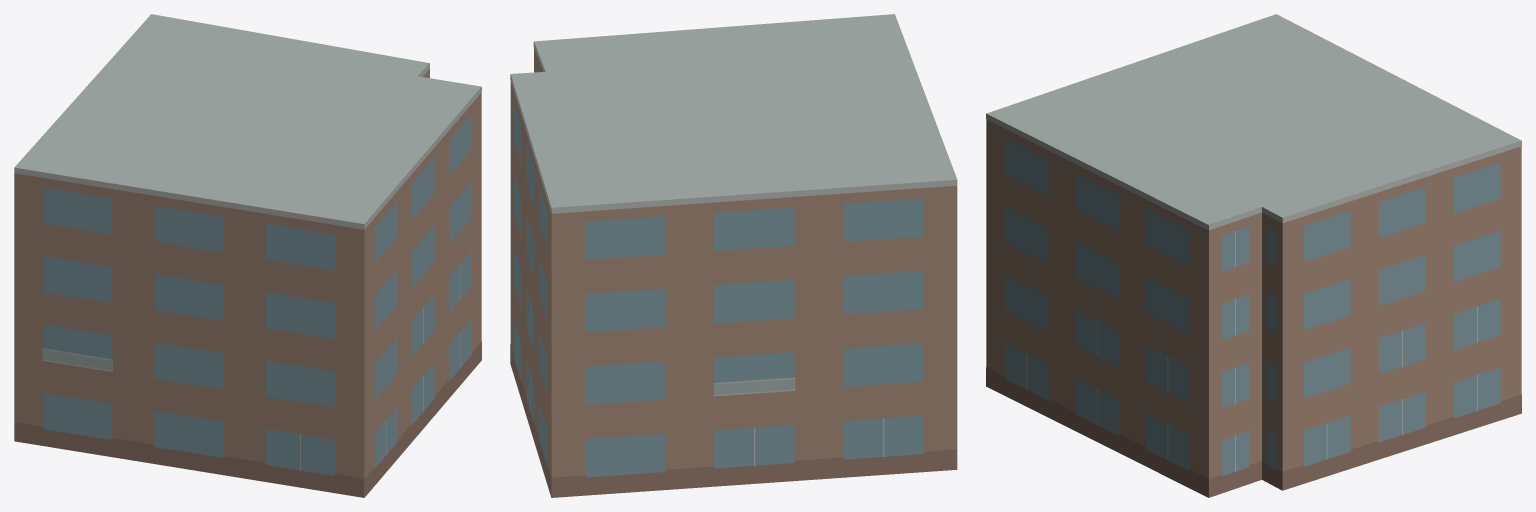
The model's file is survey-upis-32686436.glb.
3 views of the same model, side by side, from view 1: azimuth 30°, elevation 25°; view 2: azimuth 150°, elevation 25°; view 3: azimuth 270°, elevation 25° (orthographic). The views are drawn at different scales.
Visible parts, largest first — view 1: survey-upis-32686436.tmp; view 2: survey-upis-32686436.tmp; view 3: survey-upis-32686436.tmp.
Boxes of the visible parts, left/top/right/bottom form: survey-upis-32686436.tmp: left=14, top=14, right=481, bottom=497; survey-upis-32686436.tmp: left=510, top=14, right=957, bottom=497; survey-upis-32686436.tmp: left=986, top=14, right=1521, bottom=497.
Bounding box in the file's own units: 19.91 × 12 × 21.35.
